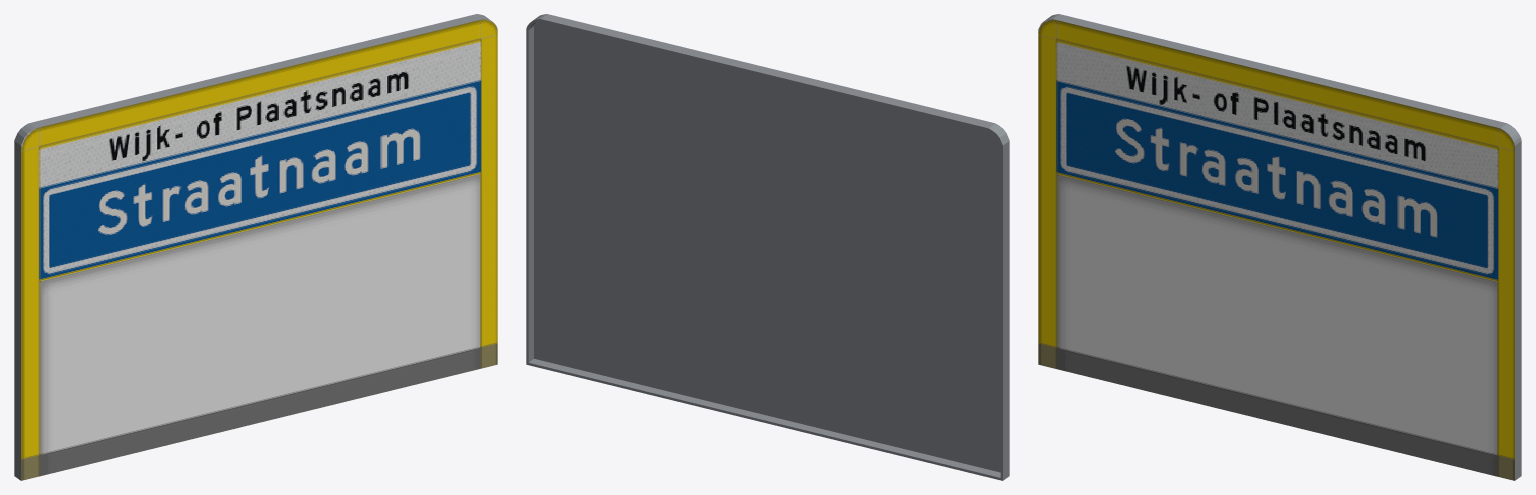
The picture shows the model from 3 angles, left to right: view 1: azimuth 30°, elevation 25°; view 2: azimuth 150°, elevation 25°; view 3: azimuth 330°, elevation 25°; orthographic projection.
Parts seen in each view (by area): view 1: cat_8facc84e6c2ce86b; view 2: cat_8facc84e6c2ce86b; view 3: cat_8facc84e6c2ce86b.
Part boxes in pixels (bbox=[...]): cat_8facc84e6c2ce86b: bbox=[14, 14, 497, 480]; cat_8facc84e6c2ce86b: bbox=[526, 14, 1009, 480]; cat_8facc84e6c2ce86b: bbox=[1038, 14, 1521, 480].
Size of the model in its own units: 0.6 by 0.015 by 0.4199.
Materials: 2 (1 with a texture image).
